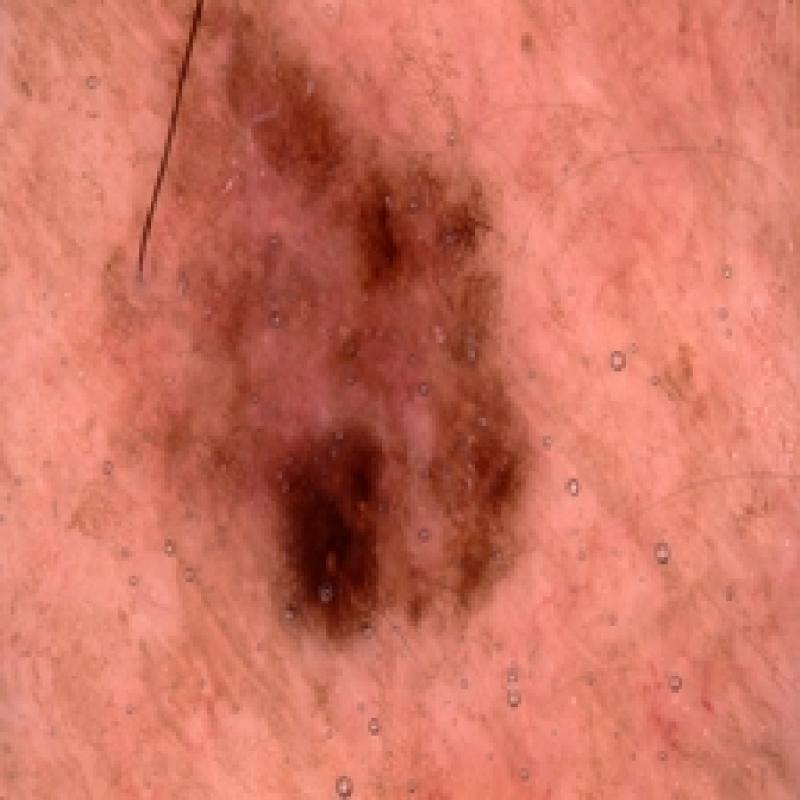malignant: (125, 5, 606, 657)
